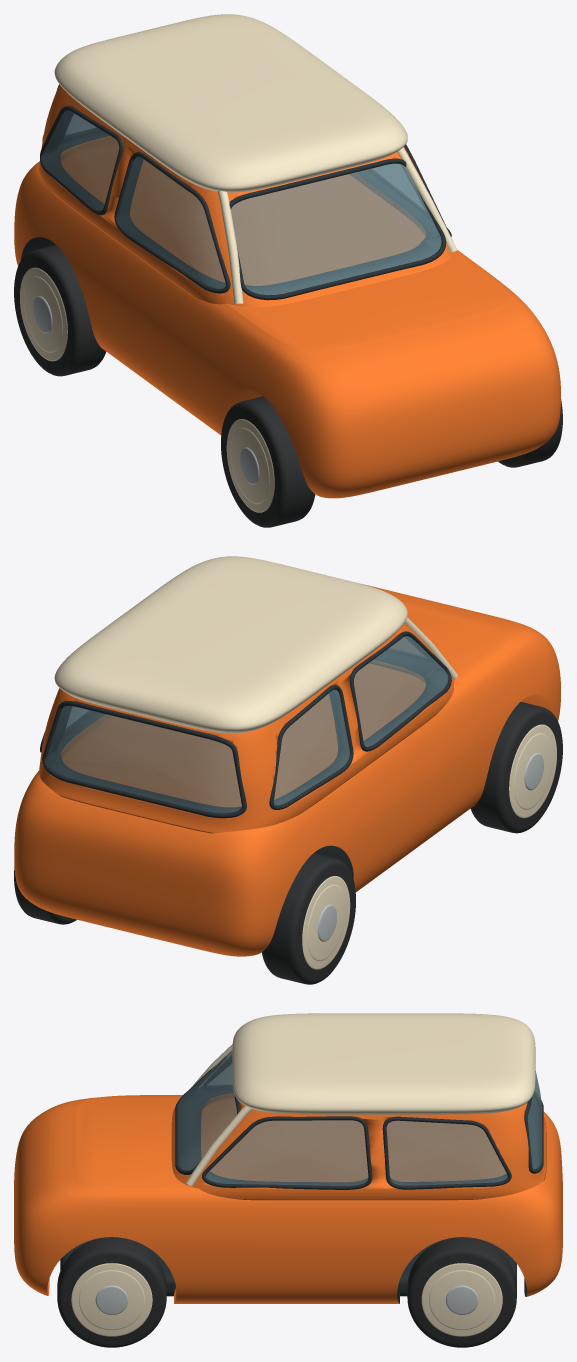
The model's file is surf-car-09-base.glb.
3 views of the same model, one above another, from view 1: azimuth 30°, elevation 25°; view 2: azimuth 150°, elevation 25°; view 3: azimuth 270°, elevation 25° (orthographic). The views are drawn at different scales.
Visible parts, largest first — view 1: Orange continuous body, Cream rounded roof, Glass windscreen, Orange cabin pillars, Glass door L, tyre, tyre.001, Glass quarter L, Fine black windscreen seal, Fine black door window seal, rim recess.001, rim recess (+7 smaller); view 2: Orange continuous body, Cream rounded roof, Orange cabin pillars, Glass rear window, Glass door L, Glass quarter L, tyre.001, tyre, Fine black rear window seal, rim recess, rim recess.001, Fine black quarter window seal (+6 smaller); view 3: Orange continuous body, Cream rounded roof, Orange cabin pillars, Glass door R, Glass quarter R, tyre.003, tyre.002, Glass windscreen, rim recess.003, rim recess.002, Fine black door window seal.001, cream rim.002 (+9 smaller).
Boxes of the visible parts, x1,y1,x2,y2 form: Orange continuous body: (14,142,560,498); Cream rounded roof: (54,14,407,192); Glass windscreen: (231,163,441,295); Orange cabin pillars: (39,84,453,307); Glass door L: (118,156,225,288); tyre: (221,396,315,527); tyre.001: (14,245,106,376); Glass quarter L: (43,110,119,210); Fine black windscreen seal: (229,158,446,300); Fine black door window seal: (114,152,230,293); rim recess.001: (23,276,62,352); rim recess: (230,427,269,504); Orange continuous body: (14,584,560,956); Cream rounded roof: (54,556,407,733); Orange cabin pillars: (39,623,454,833); Glass rear window: (46,706,241,813); Glass door L: (354,636,448,746); Glass quarter L: (273,689,349,805); tyre.001: (262,853,355,984); tyre: (470,702,562,833); Fine black rear window seal: (42,701,246,818); rim recess: (514,733,553,809); rim recess.001: (307,884,346,960); Fine black quarter window seal: (269,685,353,809); Orange continuous body: (14,1095,562,1303); Cream rounded roof: (232,1013,535,1114); Orange cabin pillars: (171,1056,546,1200); Glass door R: (206,1120,368,1185); Glass quarter R: (386,1120,507,1185); tyre.003: (407,1237,516,1347); tyre.002: (57,1237,166,1347); Glass windscreen: (178,1050,236,1170); rim recess.003: (429,1270,495,1329); rim recess.002: (79,1270,144,1329); Fine black door window seal.001: (202,1116,372,1189); cream rim.002: (71,1263,152,1336).
Bounding box in the file's own units: 1.79 × 1.71 × 3.51.
